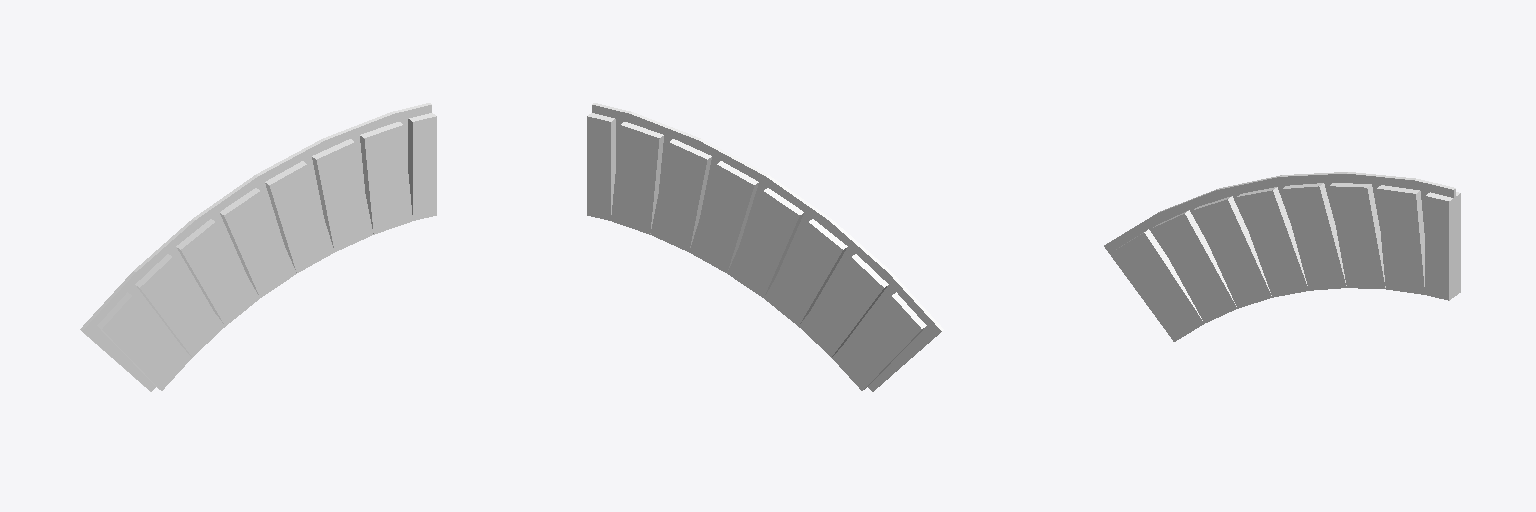
Rendered from lime_mortar_orange_clay_brick_facade_segmental_arch_2_left_bottom.obj.
The picture shows the model from 3 angles: view 1: azimuth 30°, elevation 25°; view 2: azimuth 150°, elevation 25°; view 3: azimuth 330°, elevation 25°; orthographic projection.
Visible parts, largest first — view 1: arch_2_left, arch_2_left_inner; view 2: arch_2_left, arch_2_left_inner; view 3: arch_2_left, arch_2_left_inner.
Part boxes in pixels (bbox=[...]): arch_2_left: bbox=[97, 113, 436, 390]; arch_2_left_inner: bbox=[80, 103, 431, 391]; arch_2_left: bbox=[587, 113, 926, 390]; arch_2_left_inner: bbox=[592, 103, 943, 391]; arch_2_left: bbox=[1114, 183, 1460, 341]; arch_2_left_inner: bbox=[1104, 172, 1455, 334].
Size of the model in its own units: 1.38 by 0.8291 by 0.0812.